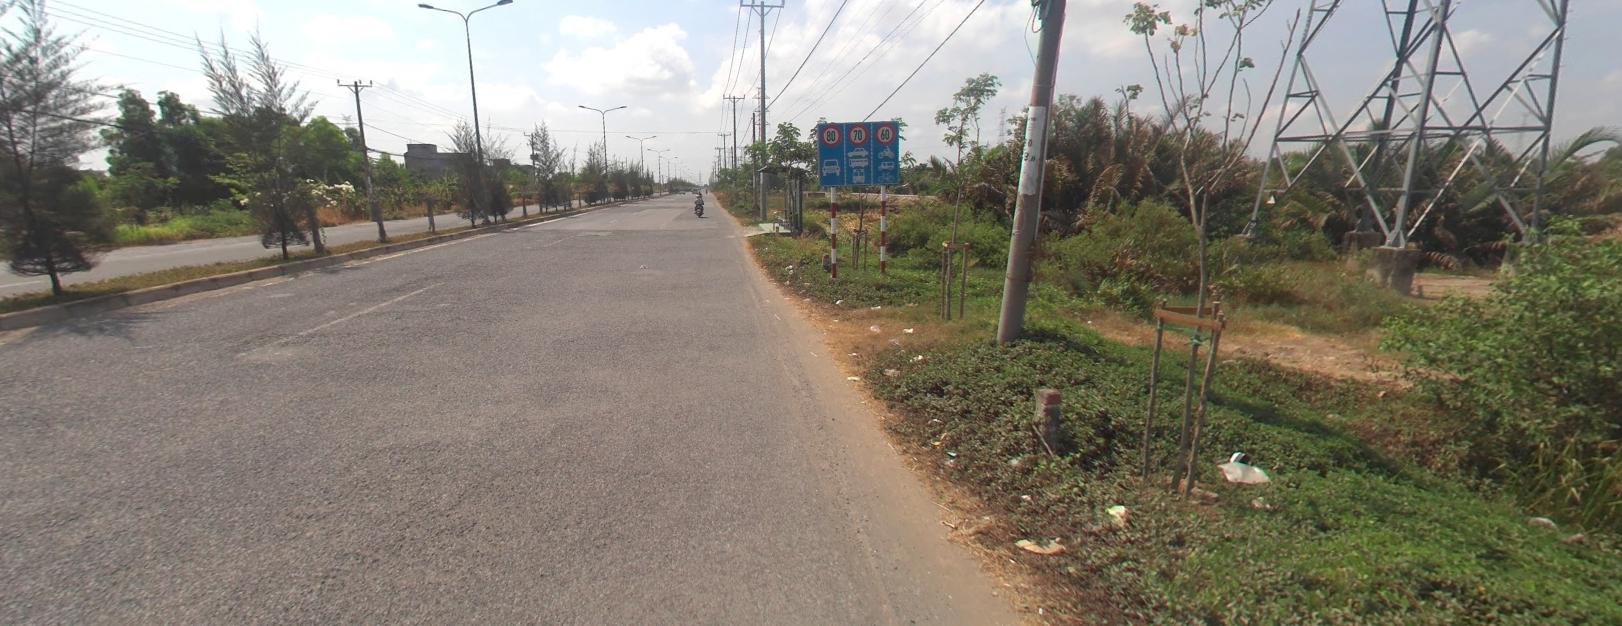Gioi han toc do: (820, 123, 841, 145), (846, 123, 867, 144), (874, 122, 895, 143)
